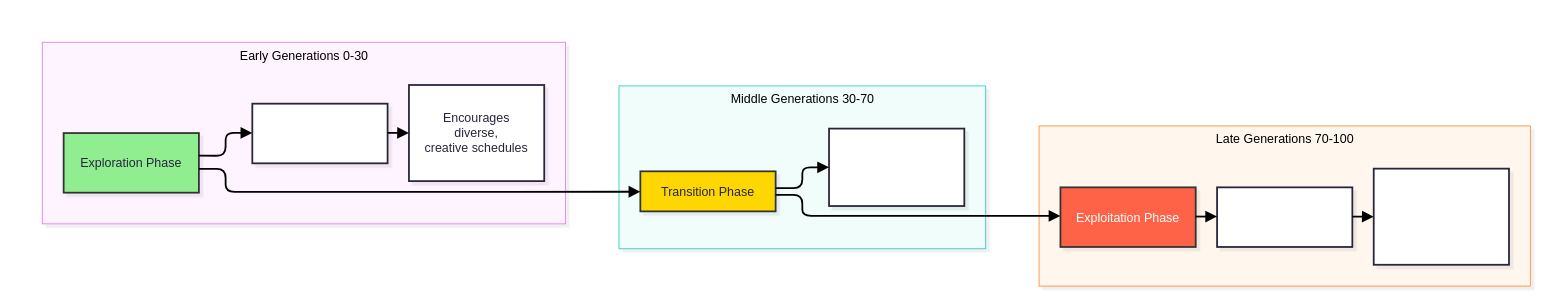
This 1549x305 diagram has some shape labels left out. Each missing label, with the centre of its shape:
"Gradually Increasing Weights" belongs at (898,168).
"High Penalty Weights" belongs at (1286,218).
"Low Penalty Weights" belongs at (321,134).
"Ruthlessly eliminates constraint violations" belongs at (1442,218).
